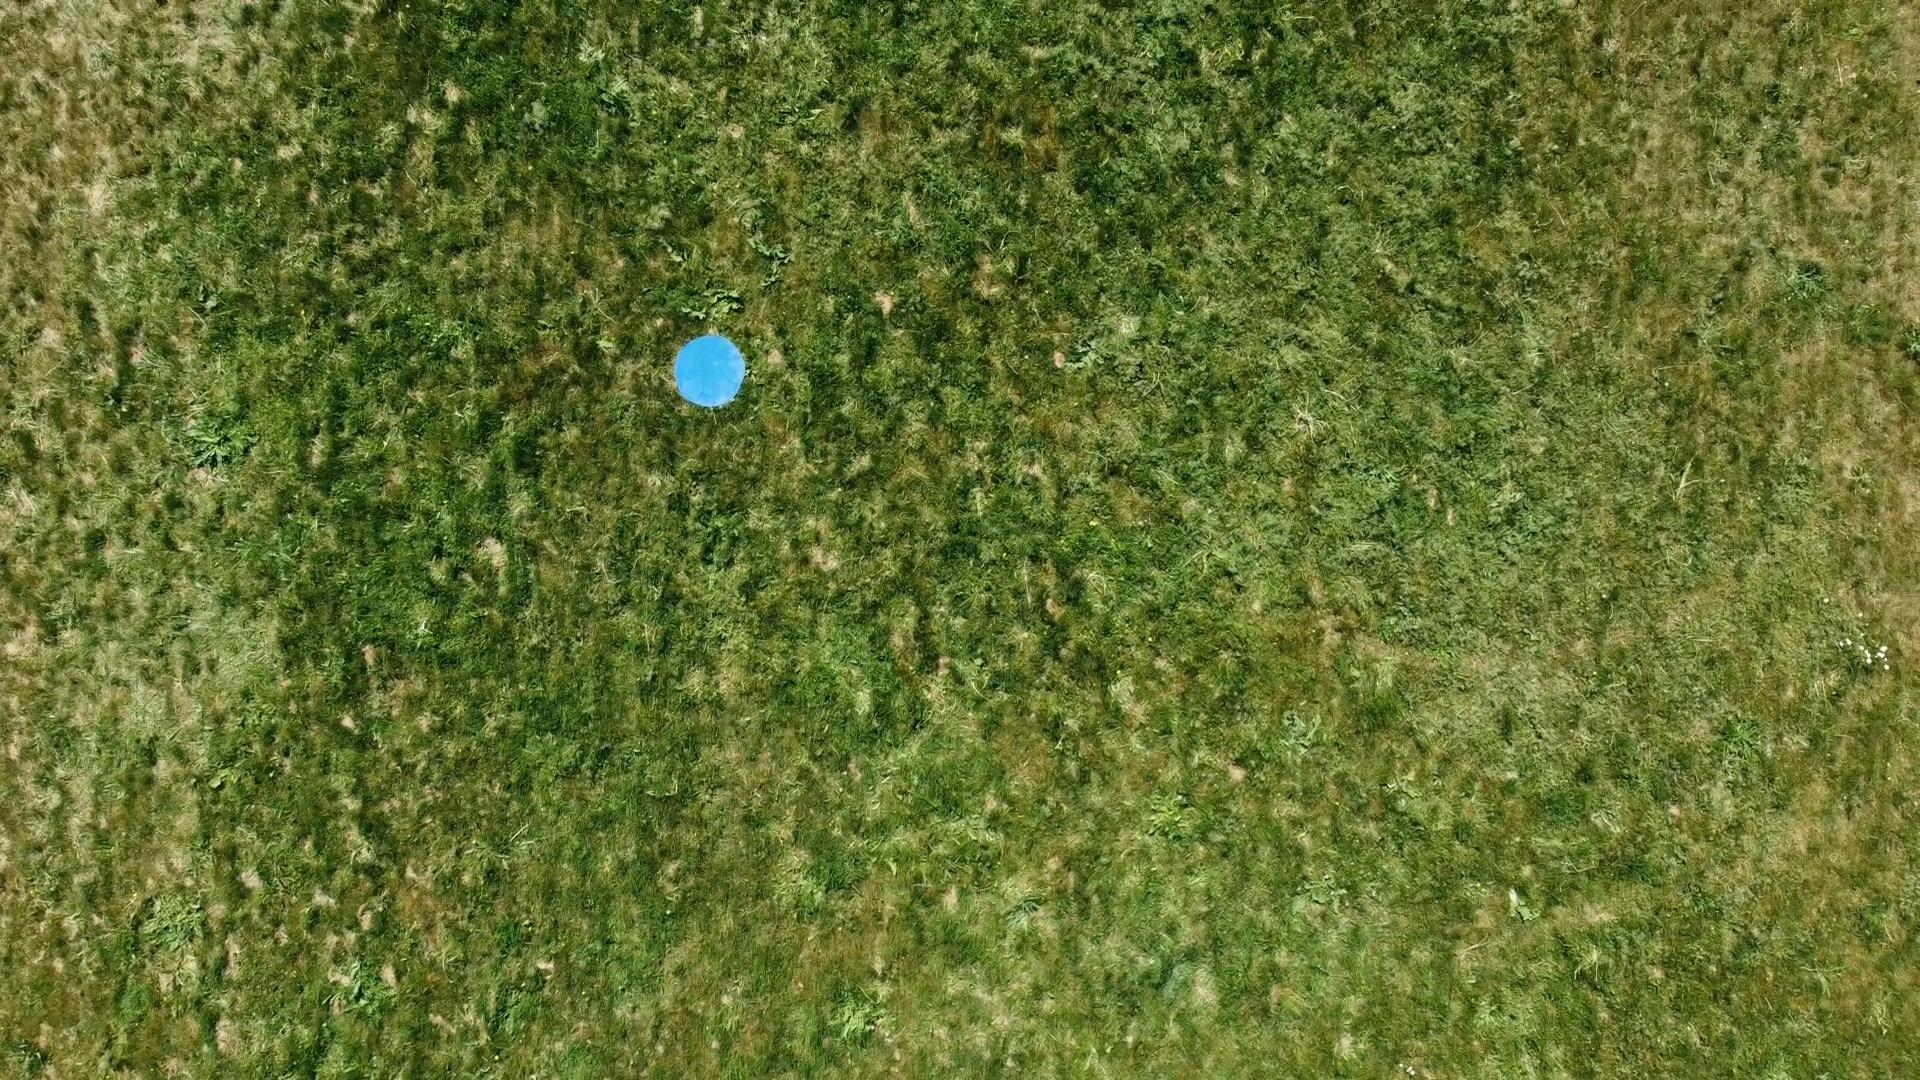Blue: (670, 334, 746, 411)
